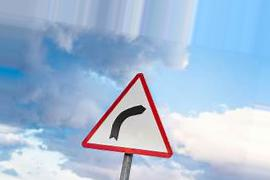right: (80, 72, 175, 159)
